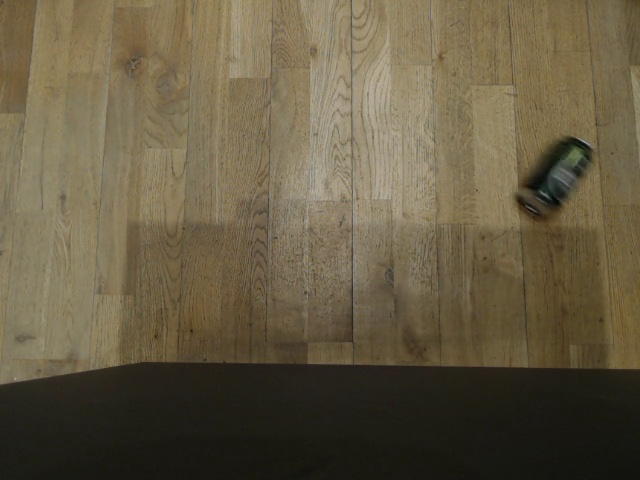beer: (512, 135, 593, 218)
